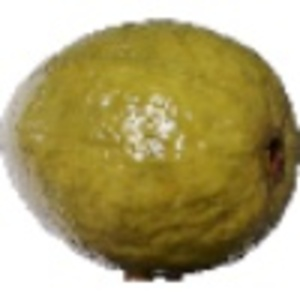goiaba: (5, 16, 297, 273)
